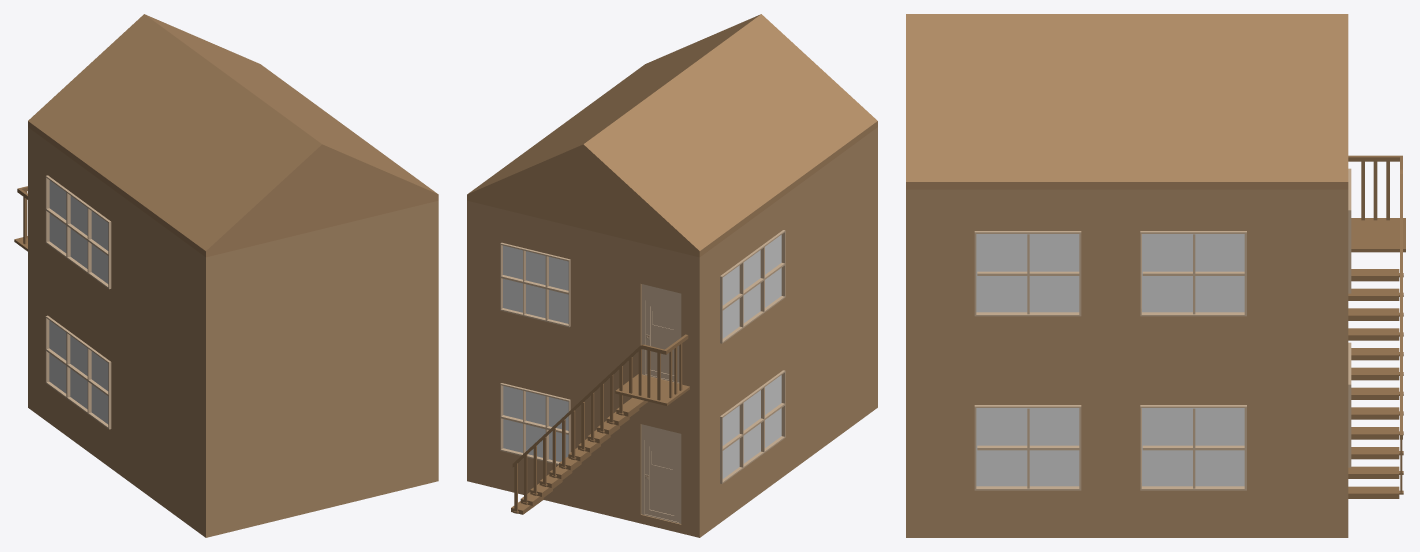
Rendered from House_11.fbx.
3 renders of one model, left to right at view 1: azimuth 30°, elevation 25°; view 2: azimuth 150°, elevation 25°; view 3: azimuth 270°, elevation 25°, orthographic. The views are drawn at different scales.
Visible parts, largest first — view 1: House_11_Body, House_11_Window, House_11_Window.004; view 2: House_11_Body, Hoouse_11_Door.001, House_11_Window.007, Hoouse_11_Door.002, House_11_Window.003, House_11_Window, House_11_Window.004; view 3: House_11_Body, House_11_Window.001, House_11_Window.005, House_11_Window.002, House_11_Window.006.
Boxes of the visible parts, x1,y1,x2,y2 form: House_11_Body: (14,14,438,537); House_11_Window: (49,320,108,424); House_11_Window.004: (49,180,108,283); House_11_Body: (467,14,877,537); Hoouse_11_Door.001: (641,424,681,523); House_11_Window.007: (503,245,568,323); Hoouse_11_Door.002: (641,284,681,383); House_11_Window.003: (503,386,568,461); House_11_Window: (722,375,781,478); House_11_Window.004: (722,235,781,338); House_11_Body: (906,14,1405,537); House_11_Window.001: (976,408,1079,488); House_11_Window.005: (976,234,1079,314); House_11_Window.002: (1142,408,1244,488); House_11_Window.006: (1142,234,1244,314).
Size of the model in its own units: 597 by 878 by 876.
